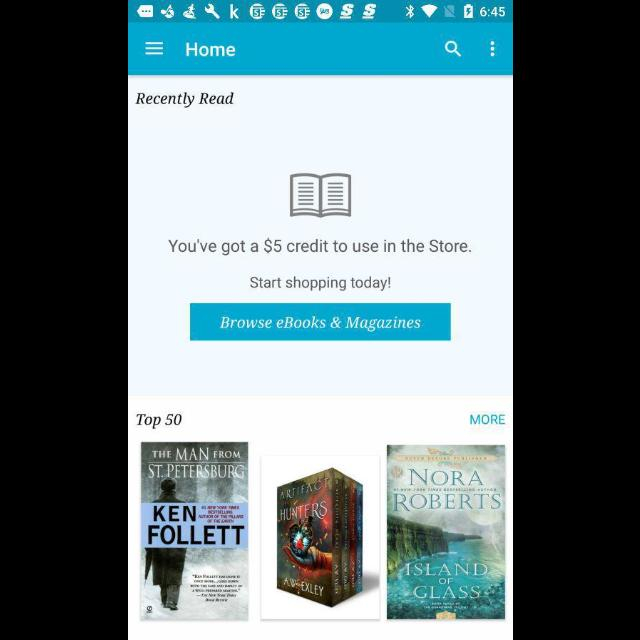icon: (444, 41, 461, 58), (144, 42, 164, 56), (490, 42, 494, 58)
image: (386, 445, 504, 619), (261, 456, 379, 620), (140, 442, 248, 620), (289, 174, 351, 218)
text: (168, 238, 470, 256), (250, 276, 390, 292), (134, 92, 233, 110), (136, 413, 182, 429), (186, 43, 234, 57), (469, 414, 505, 426)
textbutton: (190, 303, 450, 341)
toolbar: (128, 24, 512, 76)
uppertaskbar: (128, 1, 512, 23)
